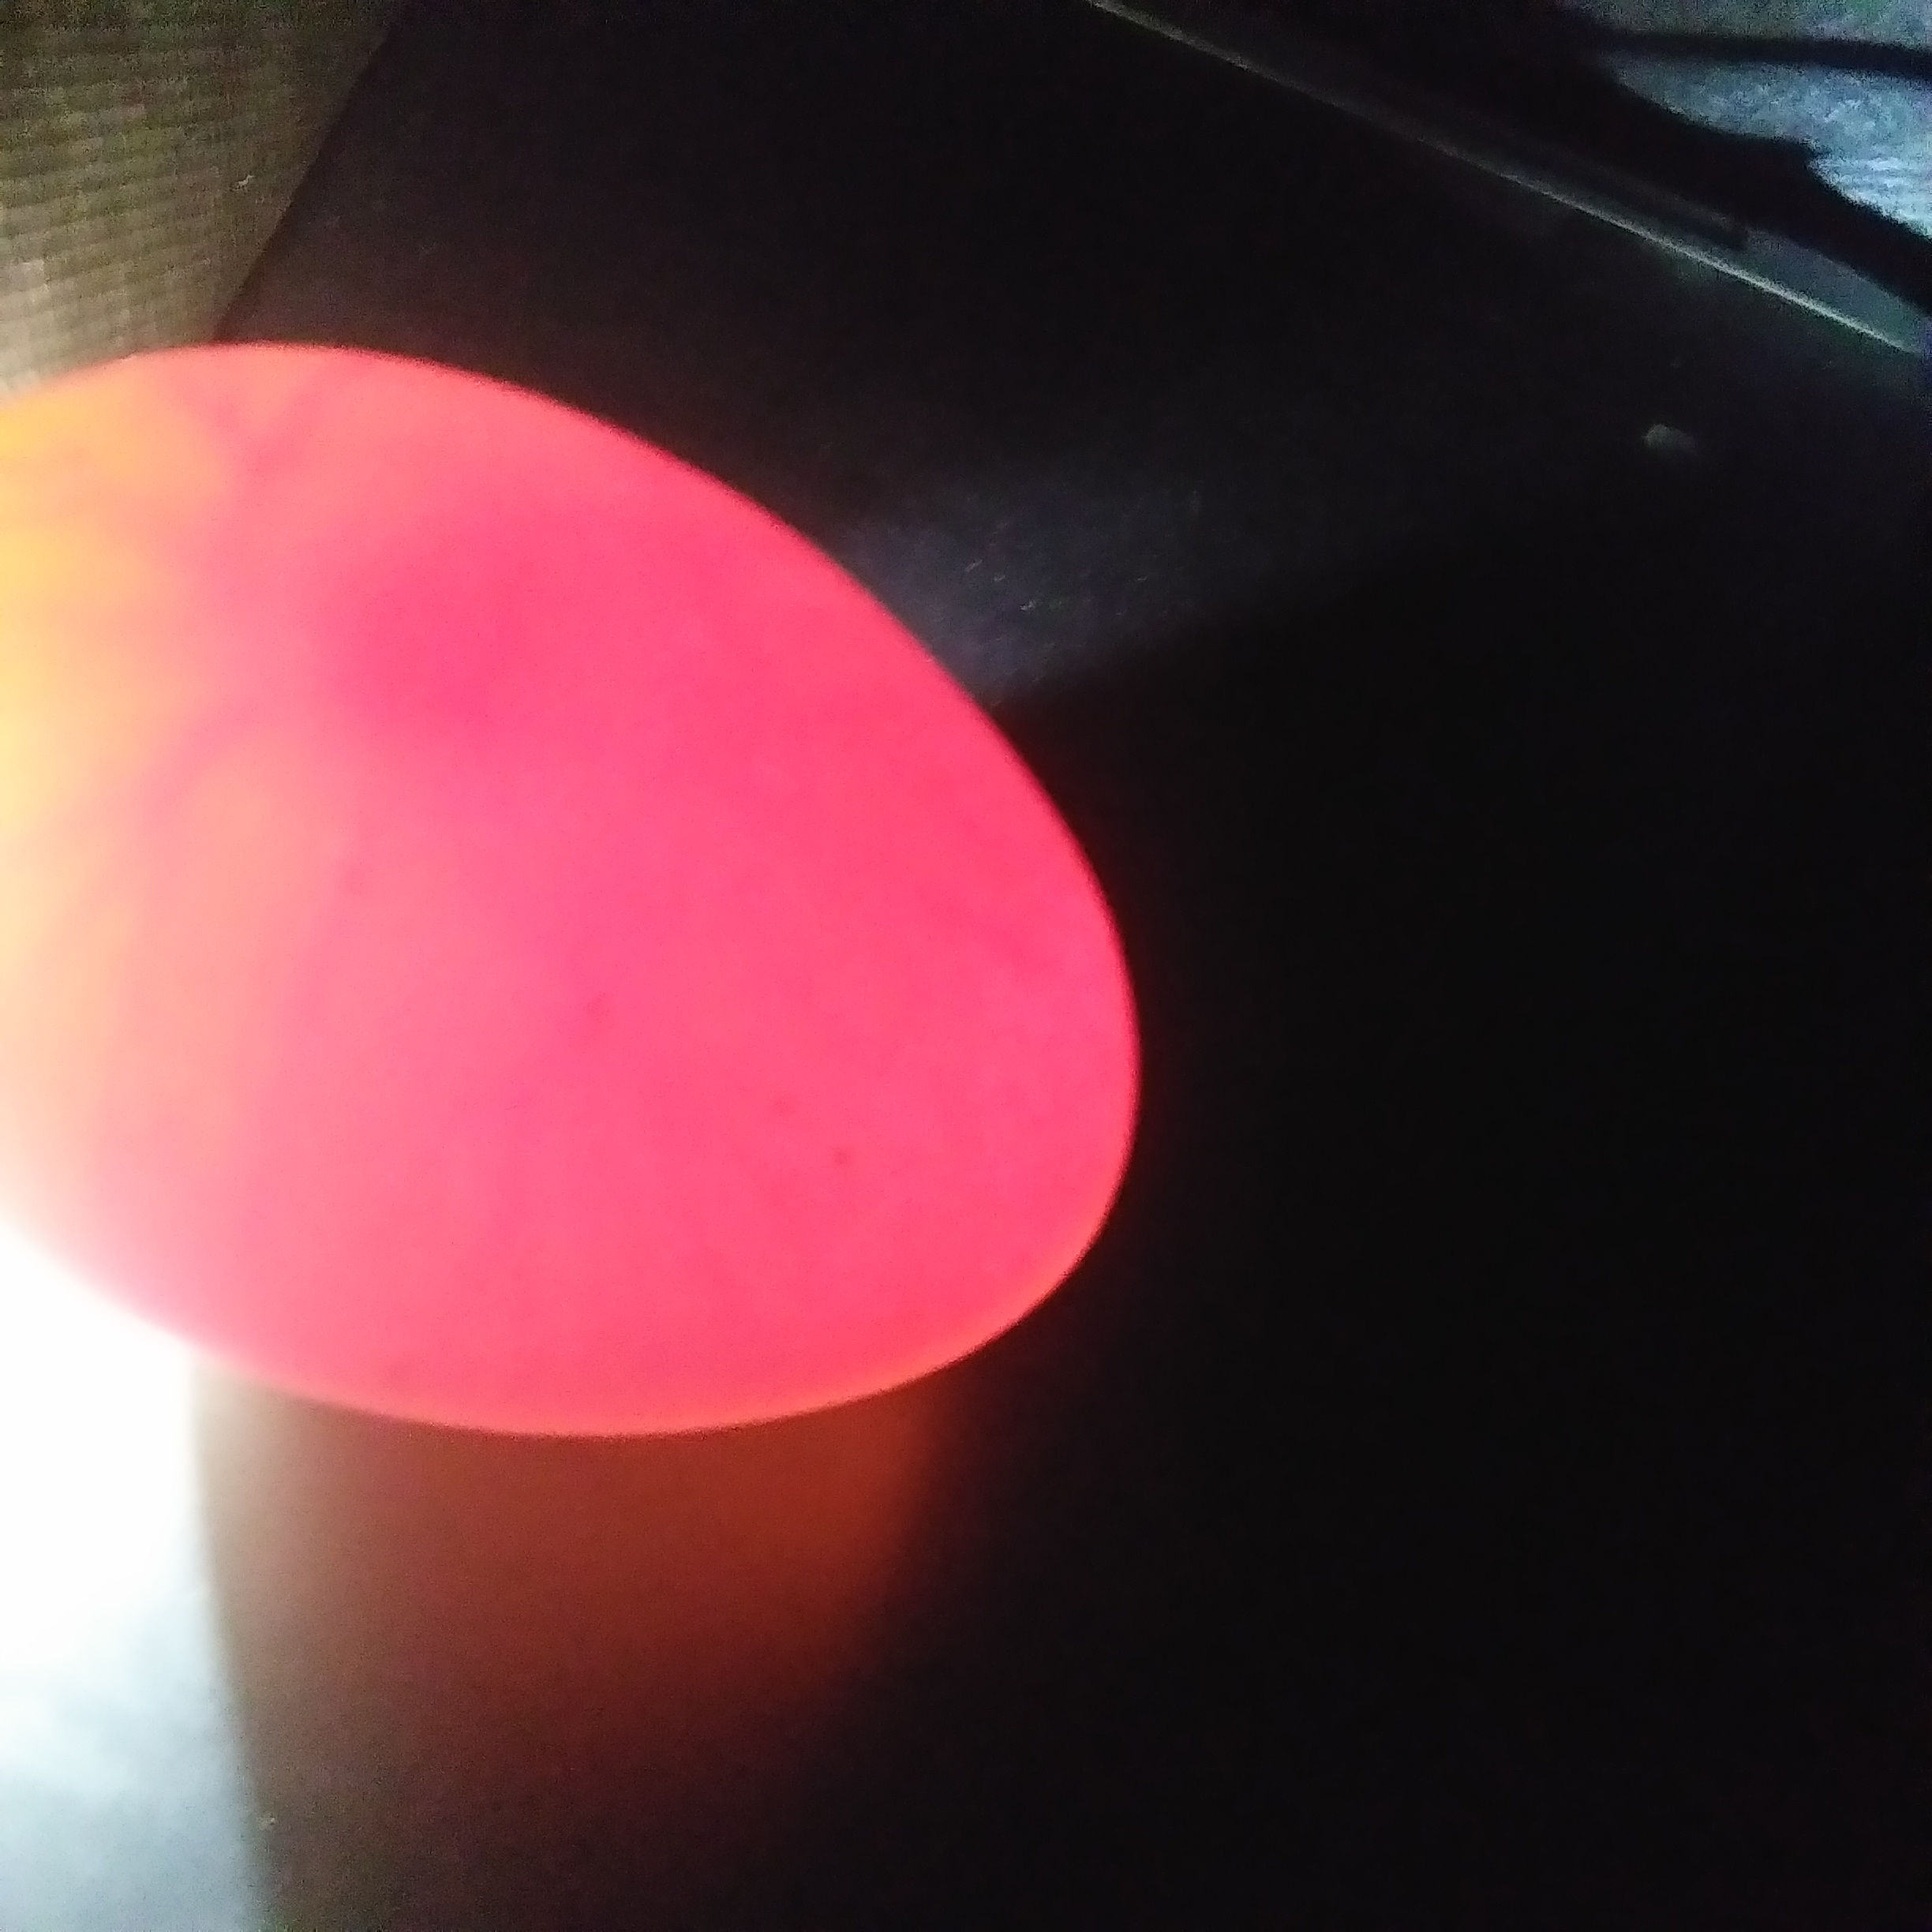bloodcell: (126, 807, 485, 1062), (156, 384, 310, 671)
